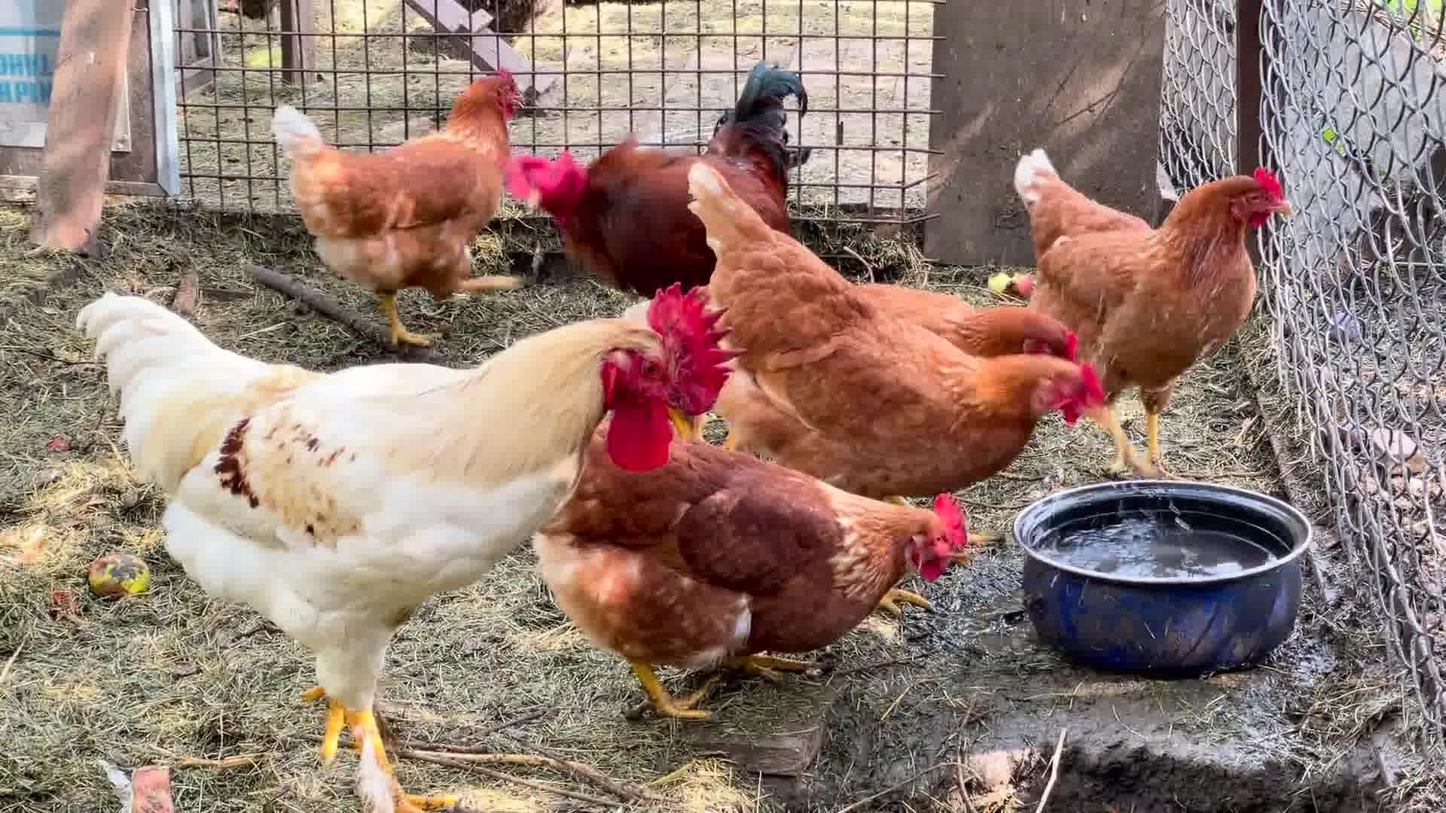Normal: (70, 285, 741, 813), (689, 170, 1097, 506), (601, 409, 987, 749), (995, 130, 1299, 483), (264, 62, 533, 328), (556, 70, 834, 277), (870, 264, 1085, 374)
